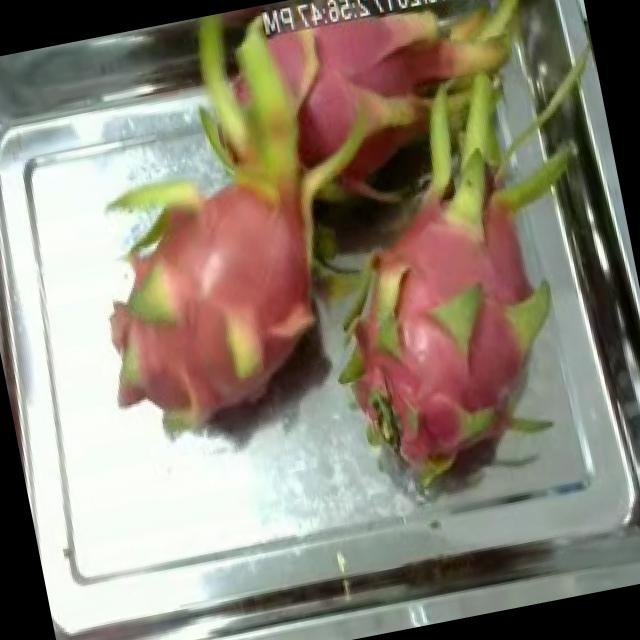Fruit: (290, 166, 404, 296)
